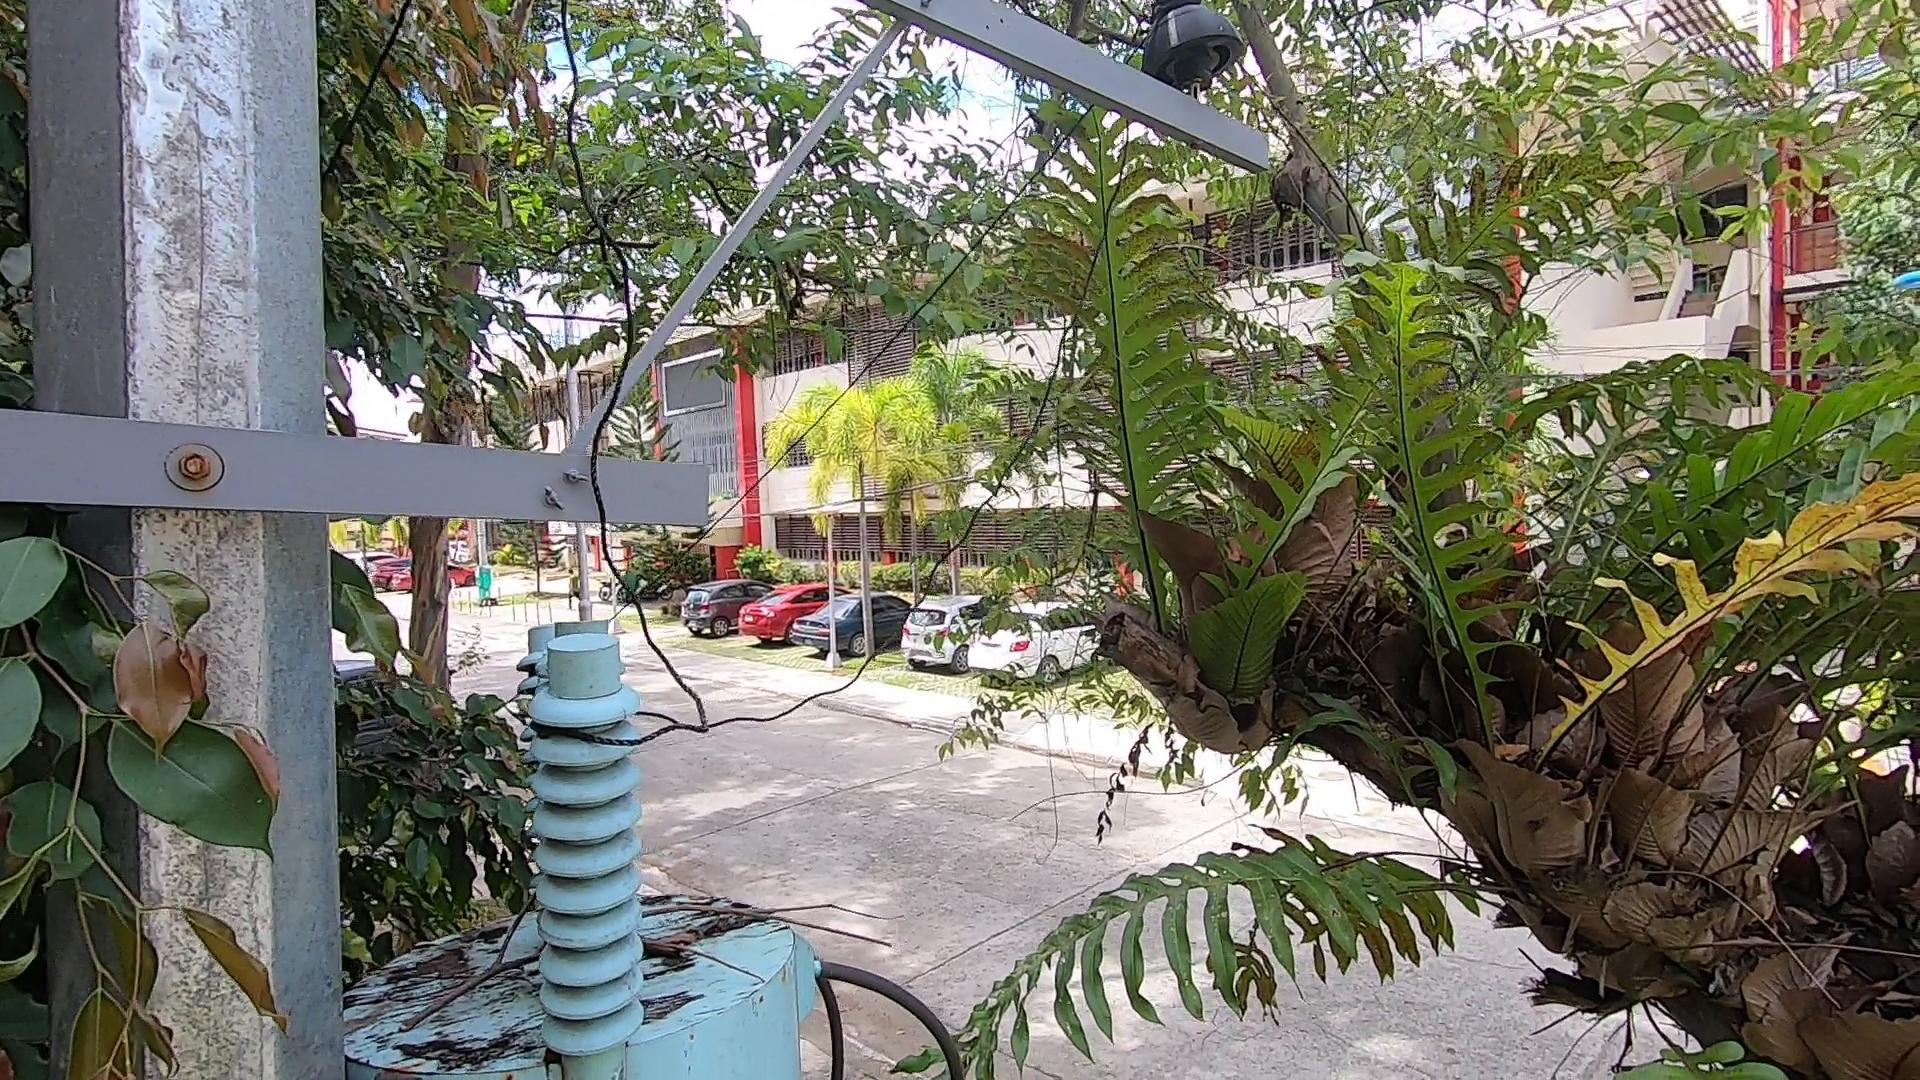branch with leaves: (8, 566, 314, 1080)
leaf: (388, 939, 497, 986), (638, 916, 704, 971)
tree branch: (372, 885, 894, 993)
